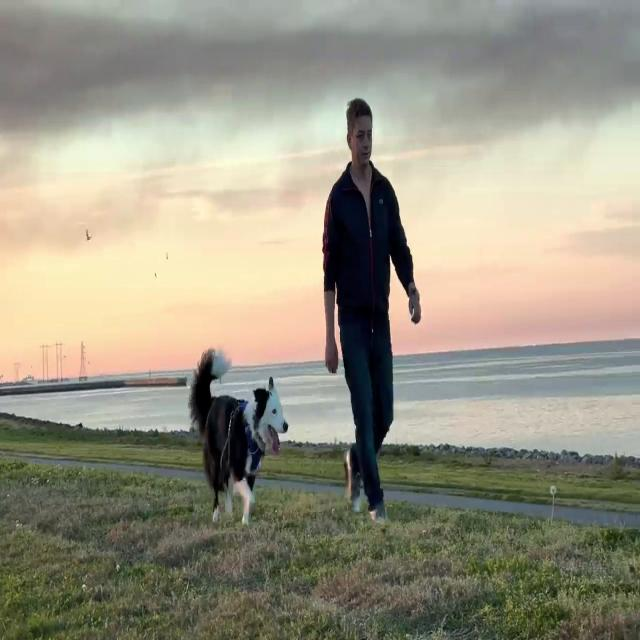Unleashed_Dog: (188, 322, 387, 524)
